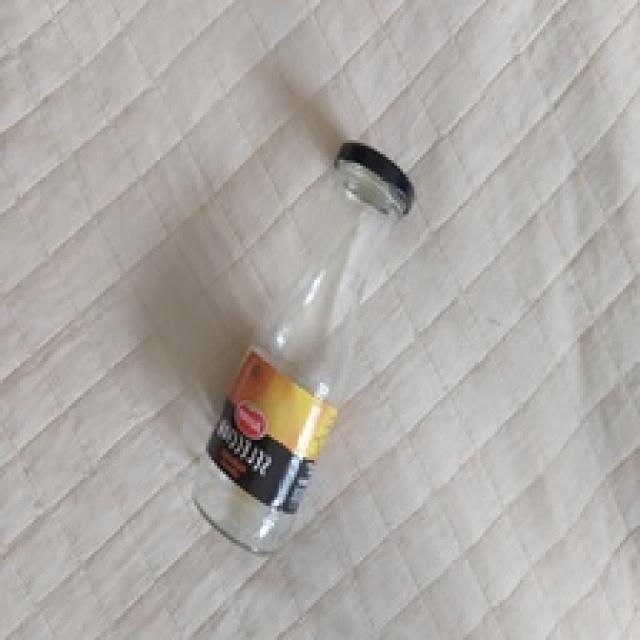glass: (189, 141, 418, 558)
